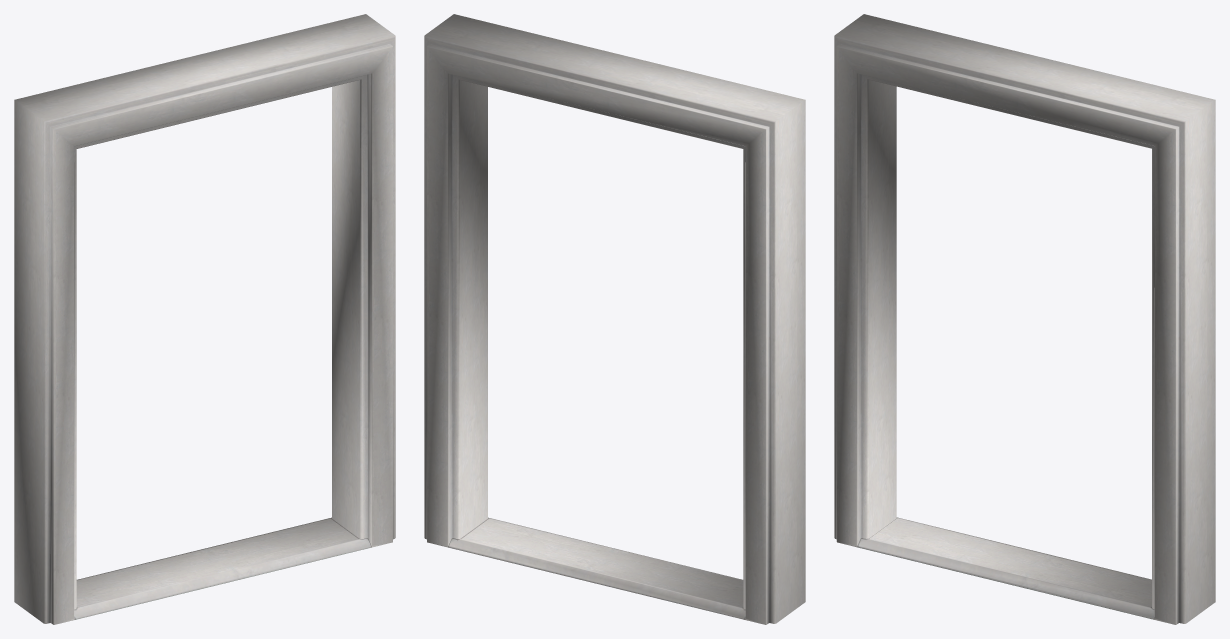
Rendered from livingroom_doorframe.dae.
3 renders of one model, left to right at view 1: azimuth 30°, elevation 25°; view 2: azimuth 150°, elevation 25°; view 3: azimuth 330°, elevation 25°, orthographic.
Visible parts, largest first — view 1: pCube2; view 2: pCube2; view 3: pCube2.
Boxes of the visible parts, left/top/right/bottom form: pCube2: left=14, top=14, right=395, bottom=624; pCube2: left=424, top=14, right=805, bottom=624; pCube2: left=834, top=14, right=1215, bottom=624.
Size of the model in its own units: 2.17 by 2.97 by 0.4.
